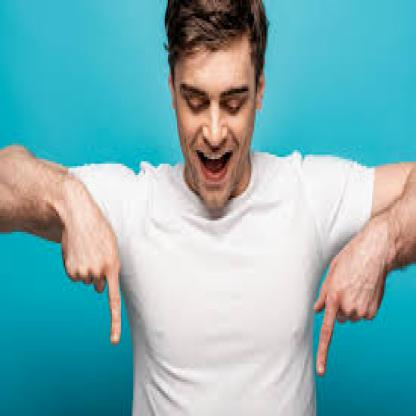Down: (307, 222, 407, 386), (55, 172, 130, 352)
